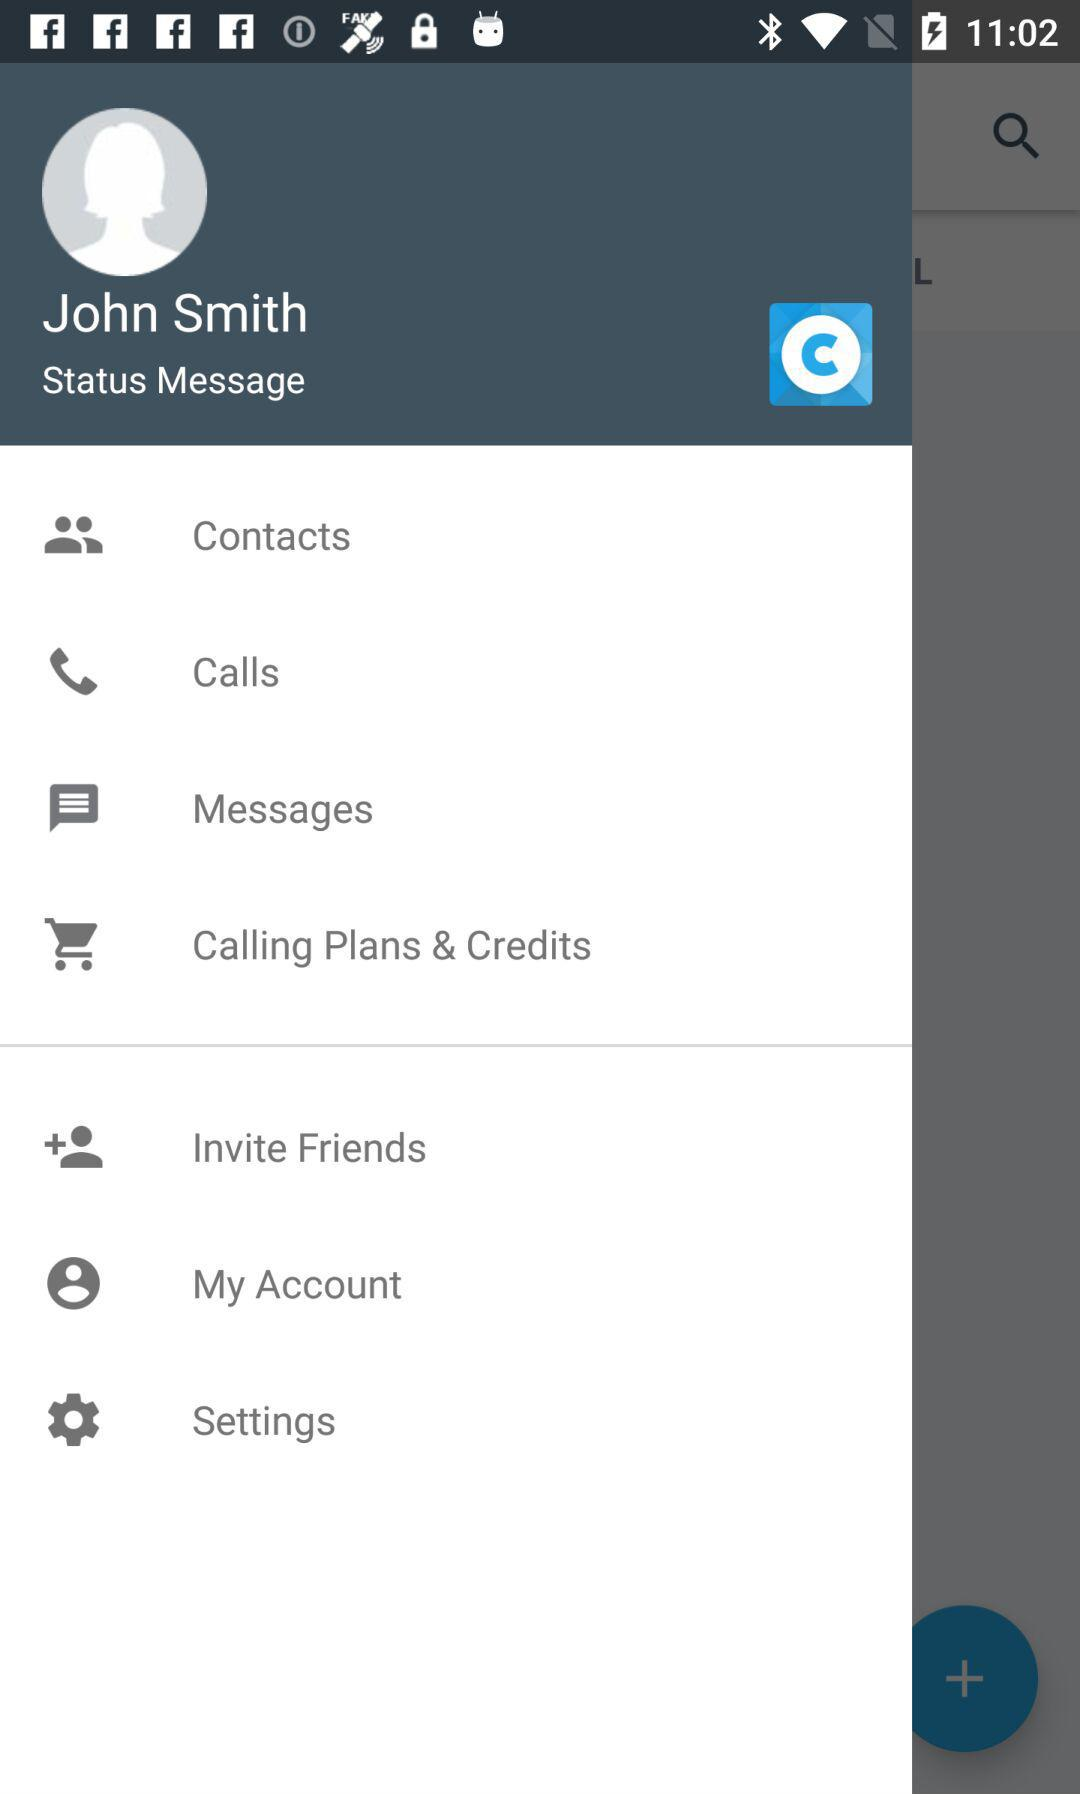Drawer: (1, 65, 912, 1794)
Icon: (41, 108, 209, 278), (47, 1256, 102, 1311), (45, 918, 100, 973), (47, 1393, 101, 1448), (44, 1125, 105, 1170), (50, 784, 100, 834), (45, 516, 104, 555), (993, 113, 1040, 160)
Image: (769, 302, 872, 407), (50, 647, 99, 697)
Text: (193, 926, 592, 969), (42, 291, 307, 336), (41, 365, 306, 402), (195, 1269, 404, 1308), (195, 1132, 427, 1165), (195, 793, 374, 833), (193, 1404, 336, 1445), (193, 520, 352, 554), (193, 655, 281, 689)
UpperTaskBar: (1, 1, 1080, 64)
